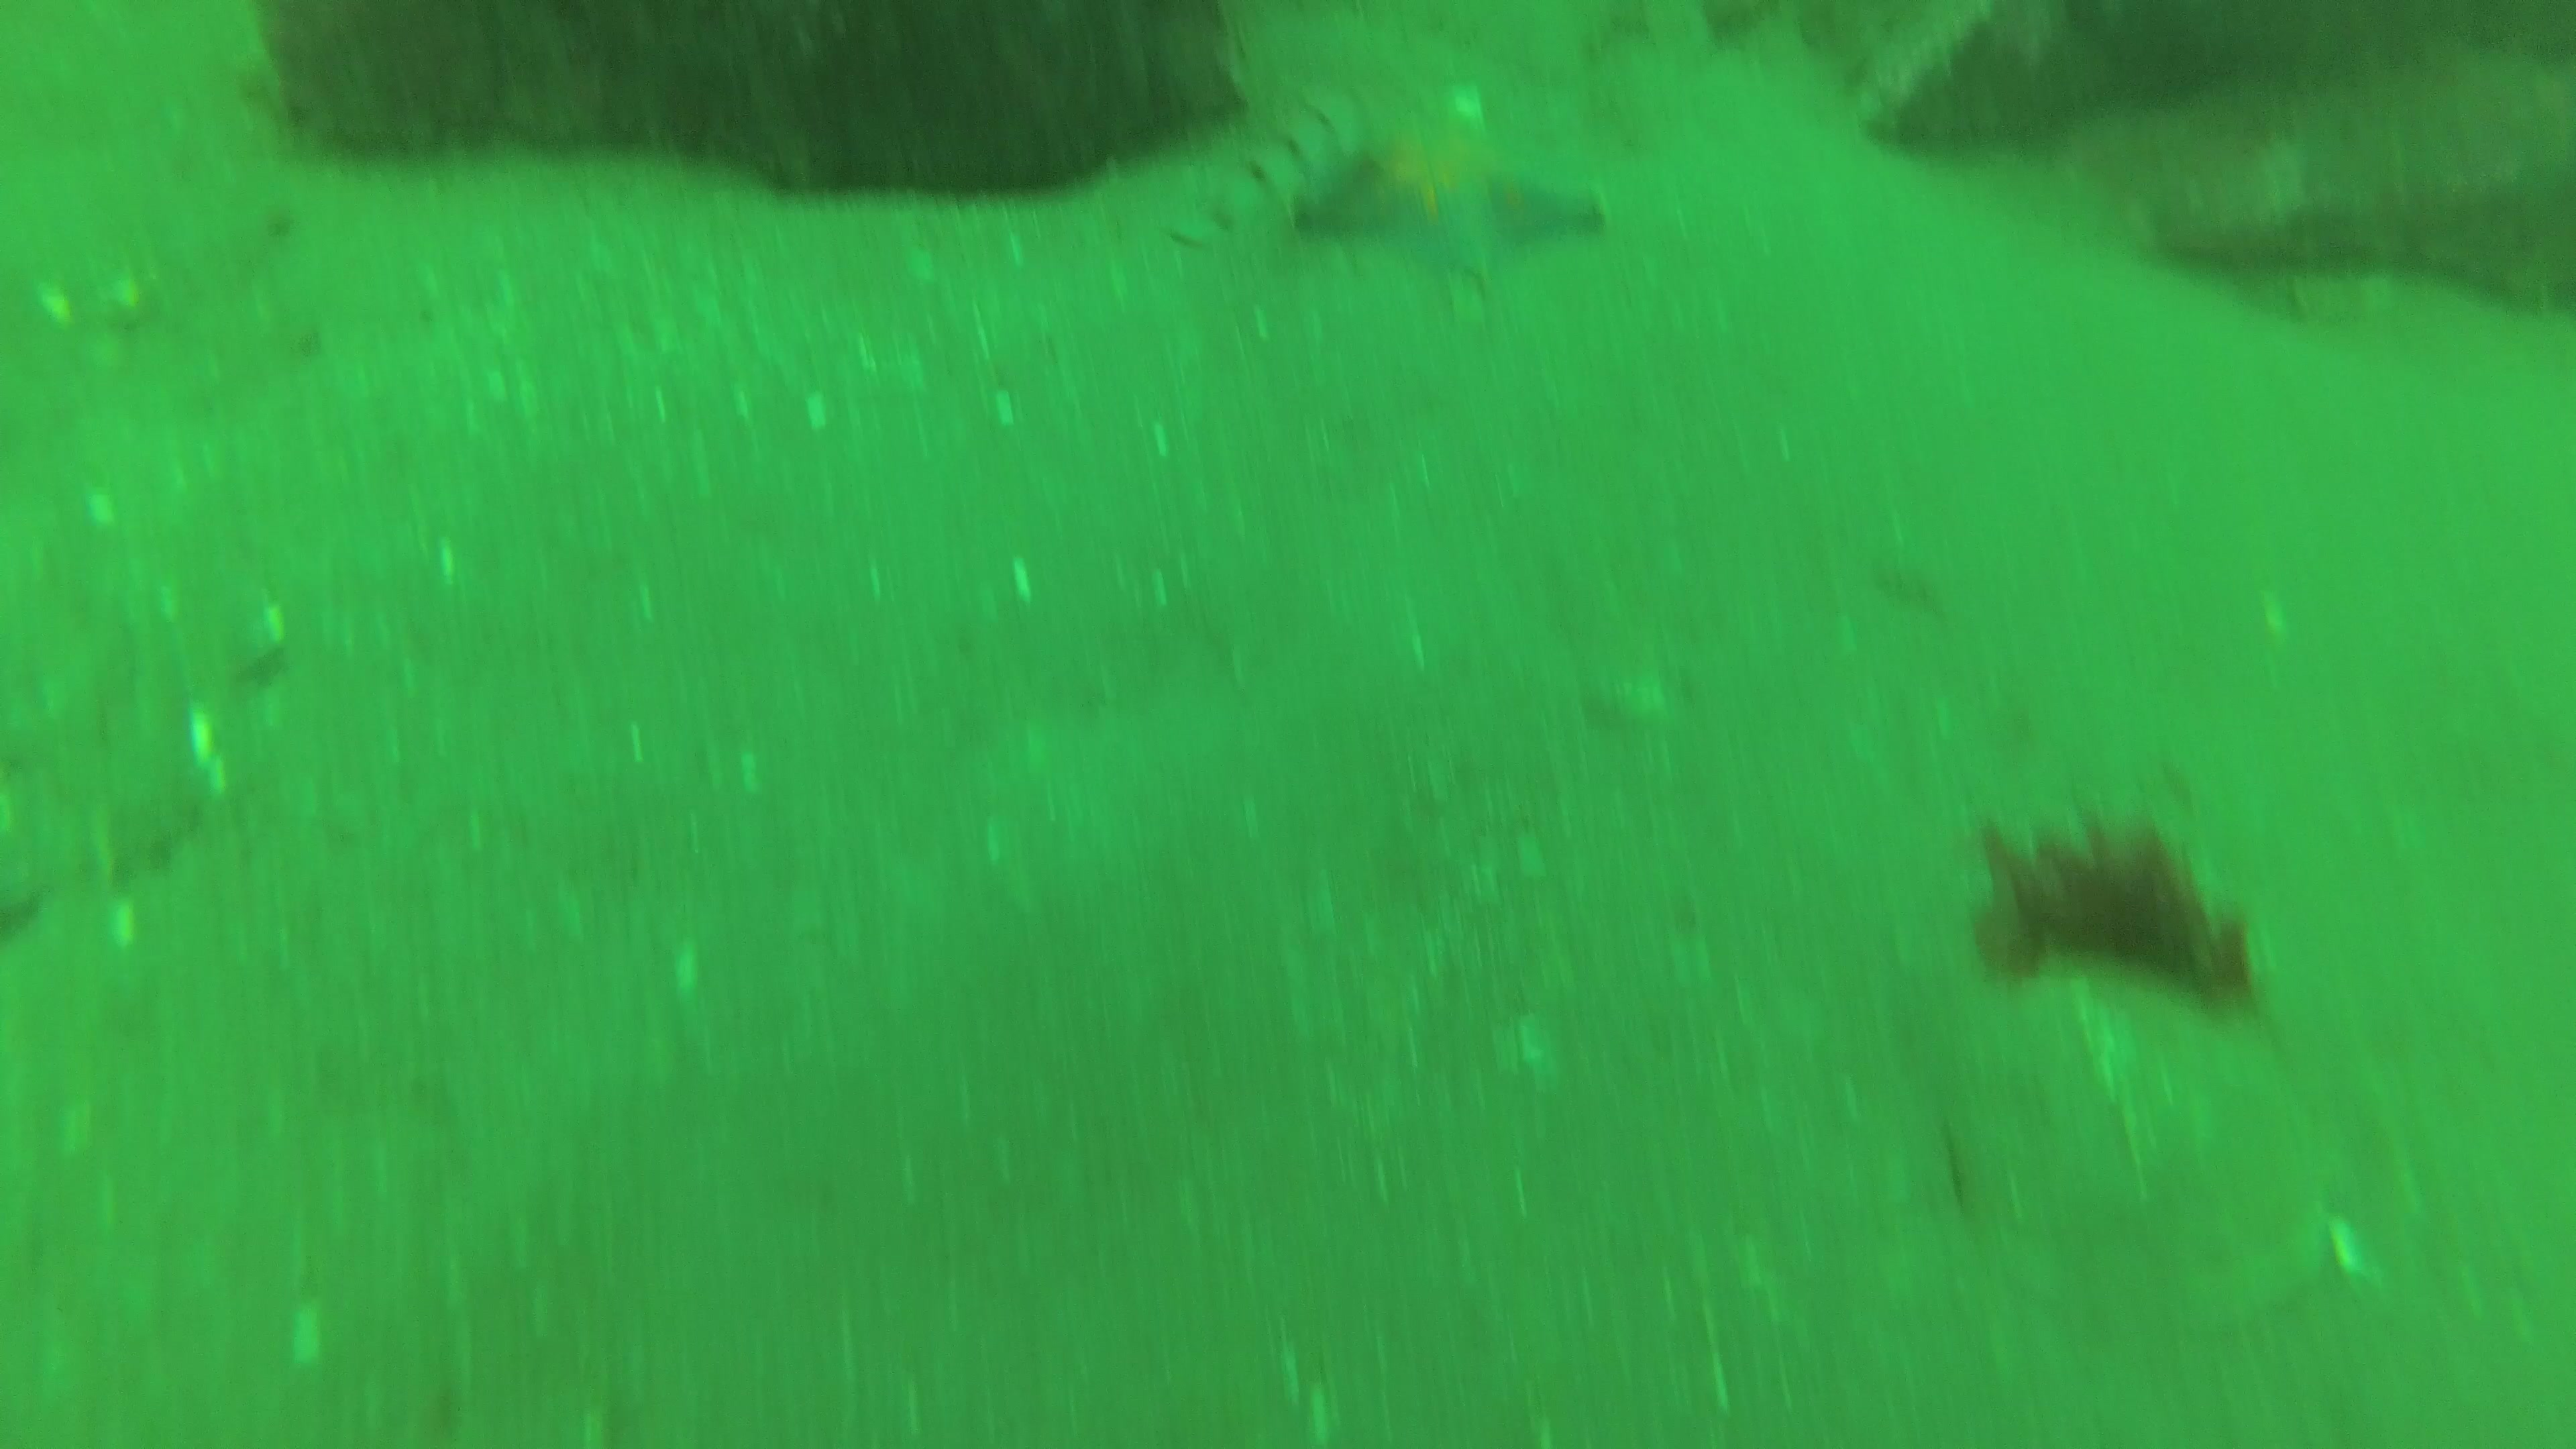starfish: (1299, 119, 1615, 294)
